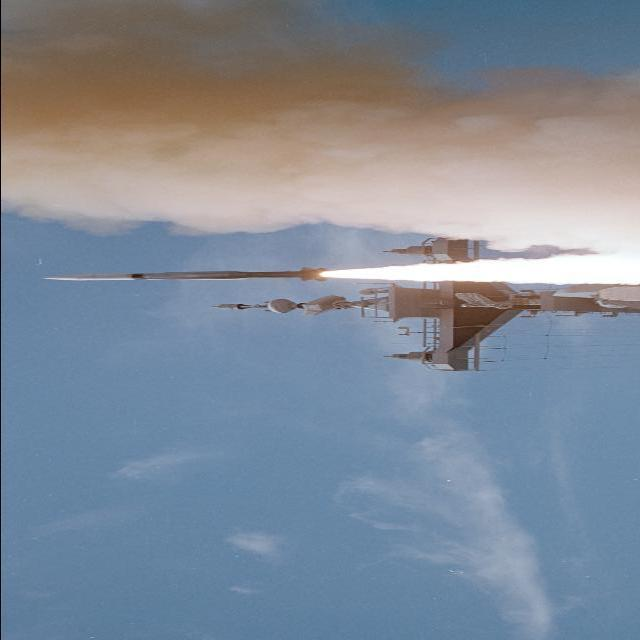missile: (46, 259, 327, 297)
